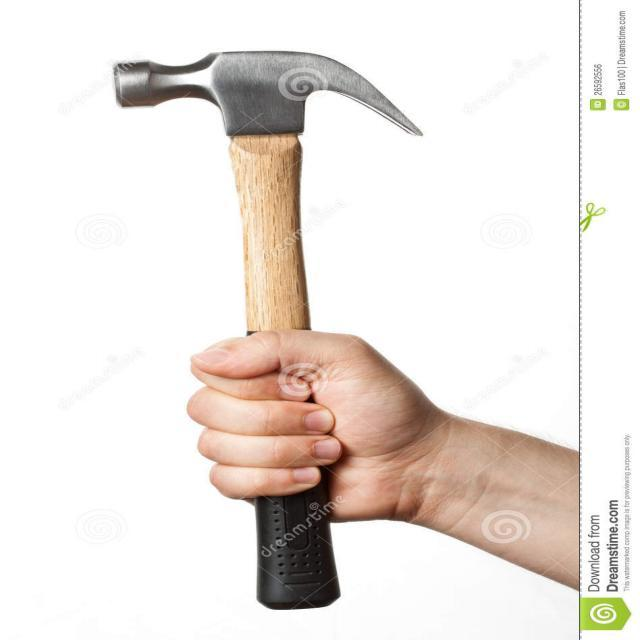hammer: (102, 43, 431, 614)
